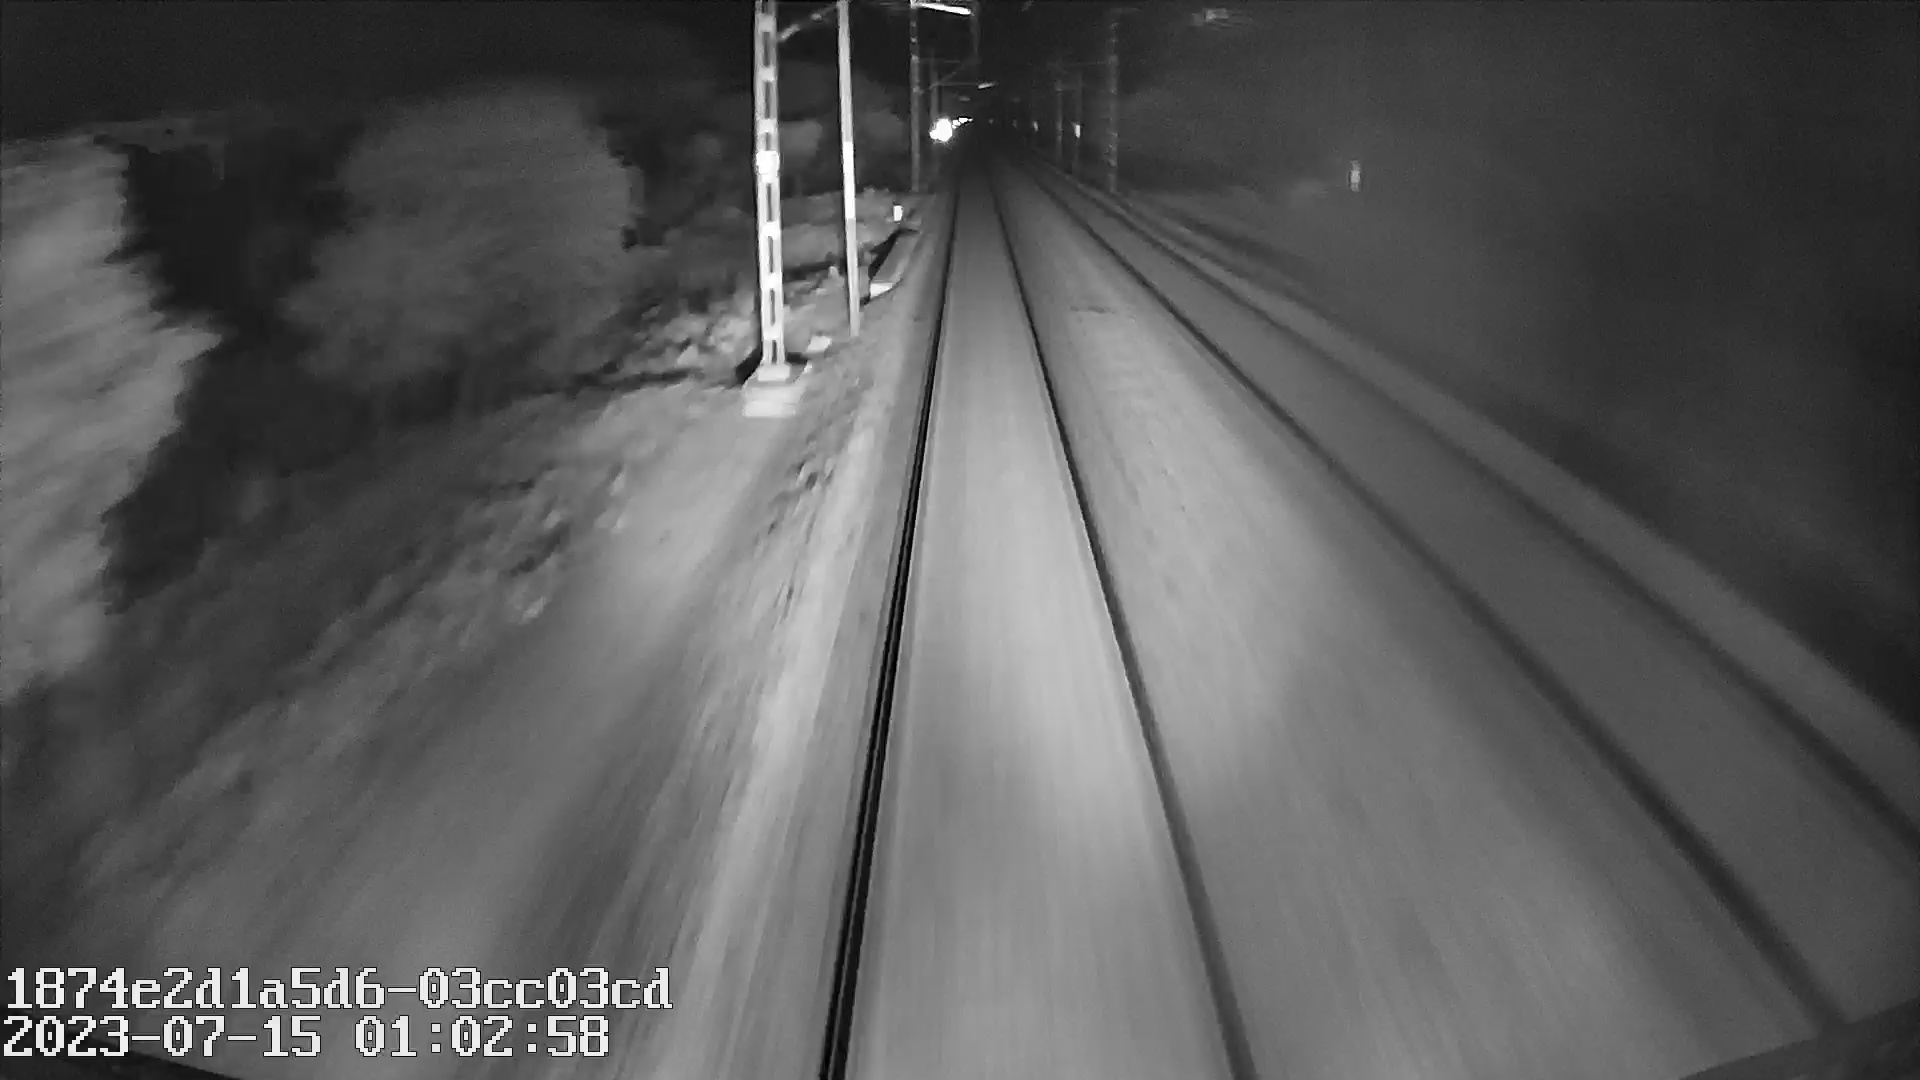track1: (835, 195, 1237, 1050)
track2: (1084, 219, 1909, 980)
